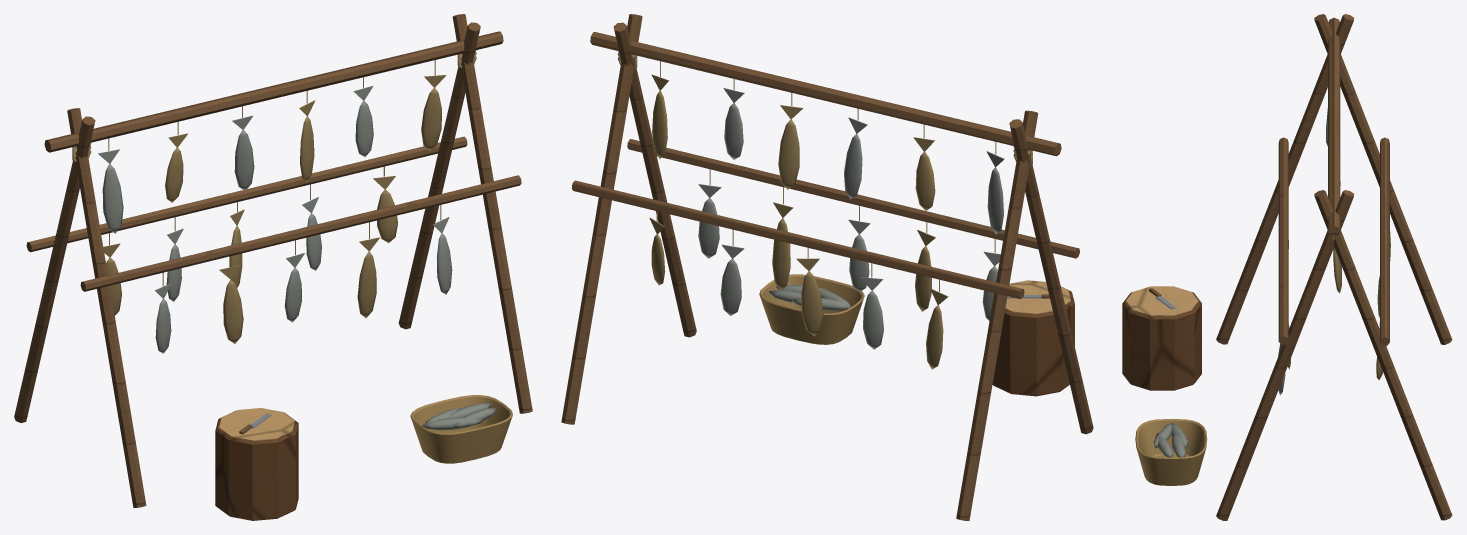
File: fish_drying_rack.glb
The picture shows the model from 3 angles, left to right: view 1: azimuth 30°, elevation 25°; view 2: azimuth 150°, elevation 25°; view 3: azimuth 270°, elevation 25°; orthographic projection. The views are drawn at different scales.
Parts seen in each view (by area): view 1: fish_drying_rack; view 2: fish_drying_rack; view 3: fish_drying_rack.
Boxes of the visible parts, x1,y1,x2,y2 form: fish_drying_rack: [14, 14, 532, 520]; fish_drying_rack: [561, 14, 1093, 520]; fish_drying_rack: [1122, 14, 1452, 520].
Size of the model in its own units: 2.7 by 2 by 1.82.
9 materials, 9 textured.
